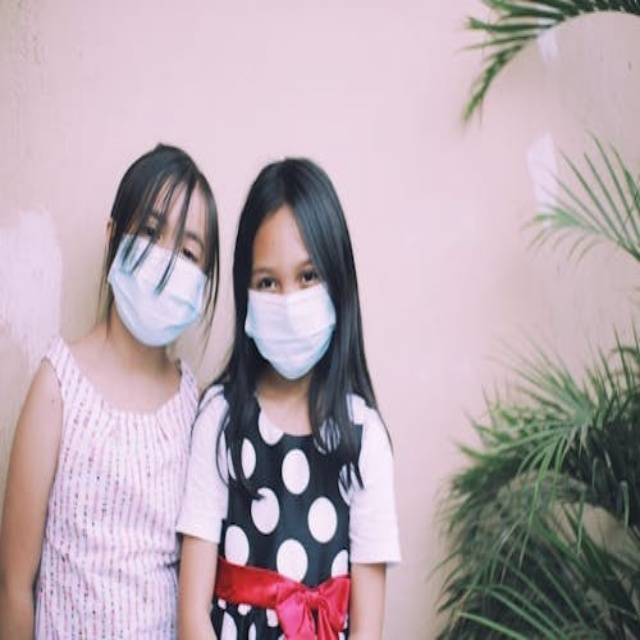Mascara: (108, 233, 210, 349), (244, 280, 340, 380)
Sin_gafas: (133, 208, 201, 261), (251, 254, 317, 294)
